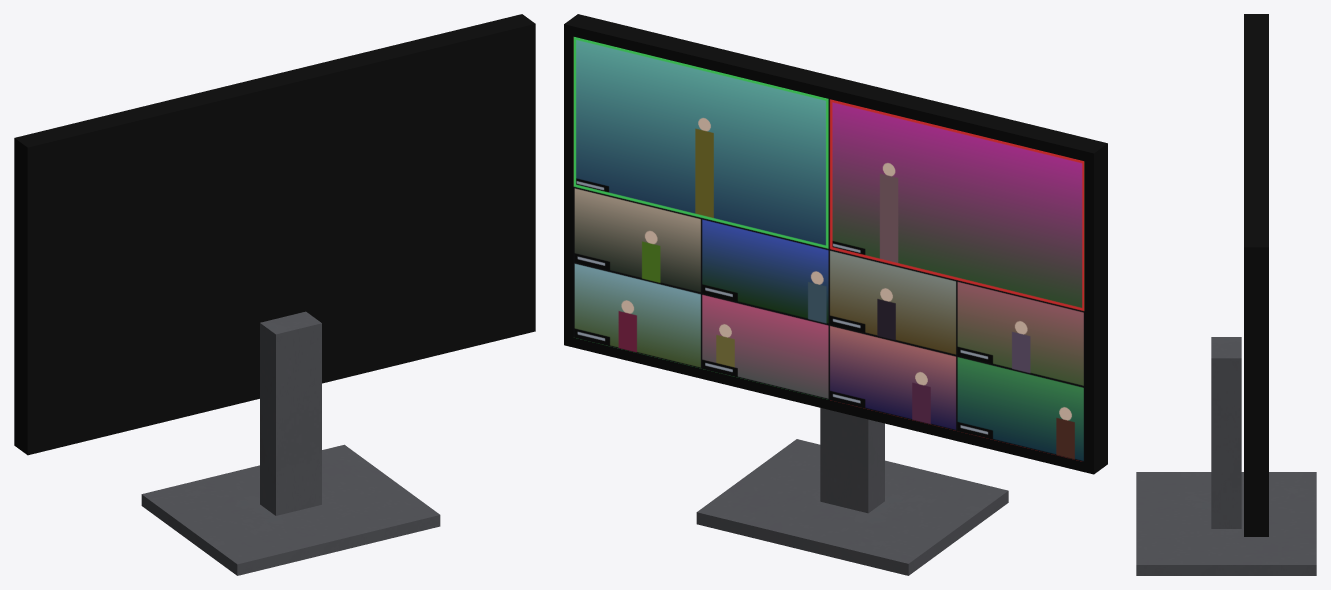
The model's file is monitor_24.gltf.
The picture shows the model from 3 angles, left to right: view 1: azimuth 30°, elevation 25°; view 2: azimuth 150°, elevation 25°; view 3: azimuth 270°, elevation 25°; orthographic projection. The views are drawn at different scales.
Parts seen in each view (by area): view 1: monitor_24; view 2: monitor_24; view 3: monitor_24.
Part boxes in pixels (bbox=[...]): monitor_24: bbox=[14, 14, 535, 575]; monitor_24: bbox=[564, 14, 1107, 575]; monitor_24: bbox=[1136, 14, 1316, 575].
Size of the model in its own units: 0.5504 by 0.4387 by 0.18.
3 materials, 3 textured.
